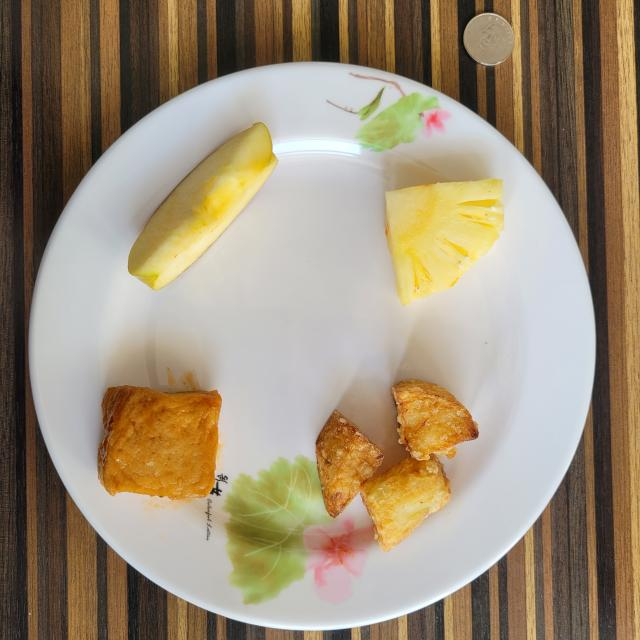apple -sliced-: (128, 122, 278, 290)
coin: (464, 12, 514, 66)
creamy tofu: (98, 385, 221, 499)
fried potato: (316, 379, 479, 551)
pineapple: (385, 179, 504, 305)
